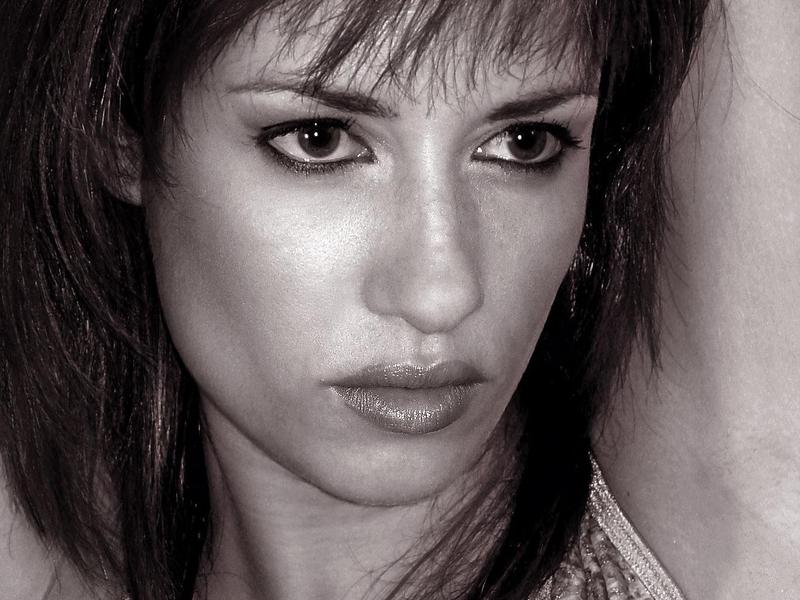person: (1, 1, 709, 600)
